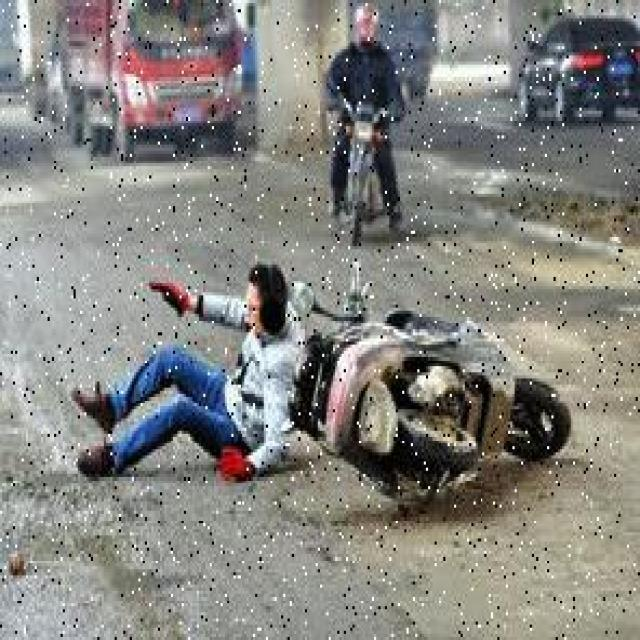fall: (69, 262, 296, 483)
